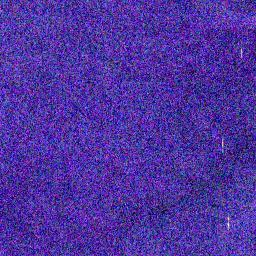Ship: (219, 136, 226, 154), (226, 213, 231, 232), (238, 45, 244, 60)
